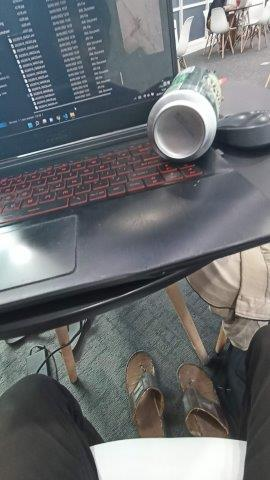kaleng: (147, 66, 221, 161)
